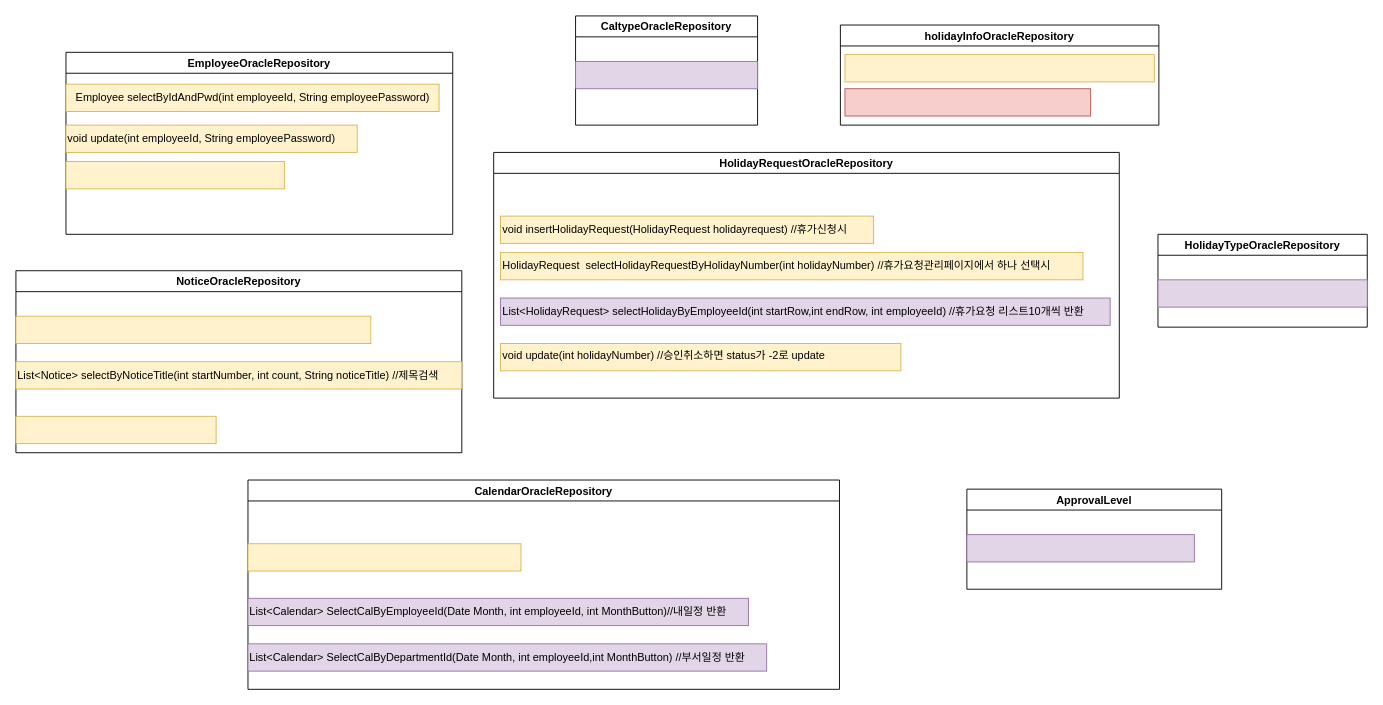
Image size: 1383x705. Some labels were removed from this diagram. Here are the shapes that lost their labels. From the top down, the centre of each, then its label:
At point 666,75: "List<CalType> selectCaltype()".
At point 999,68: "HolidayInfo SelectHolidayInfoByEmployeeId(int employeeId)".
At point 967,102: "void update(int employeeId)//휴가승인하면???".
At point 174,175: "Employee selectMyPage(int employeeId)".
At point 1262,293: "List<HolidayType> selectHolidayType()".
At point 193,329: "List<Notice> selectNoticeId(int startNumber, int count) //10개씩 출력".
At point 115,429: "Notice selectByNoticeId(int noticeId)".
At point 384,557: "void insert(Calendar calendar) // 일정 생성버튼 클릭".
At point 1080,548: "List<ApprovalLevel> selectApprovalLevel()".
